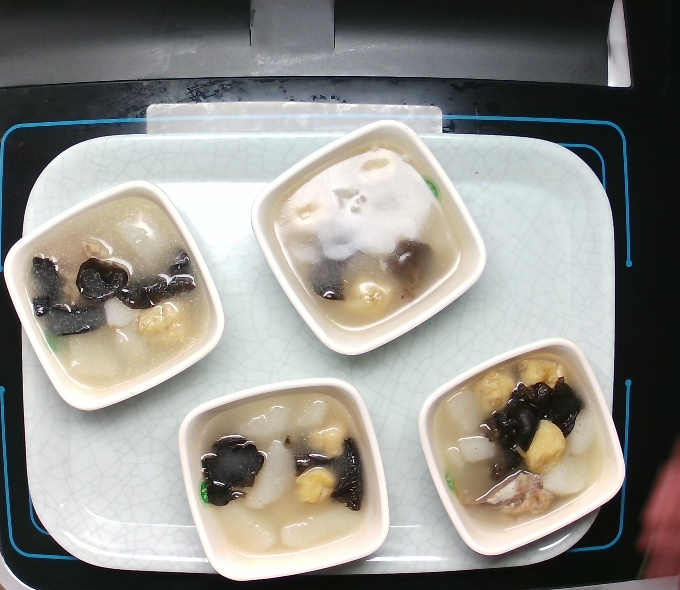wcq-ShanYaoTang: (269, 141, 462, 332), (26, 193, 209, 388), (429, 350, 611, 529), (196, 391, 376, 558)
